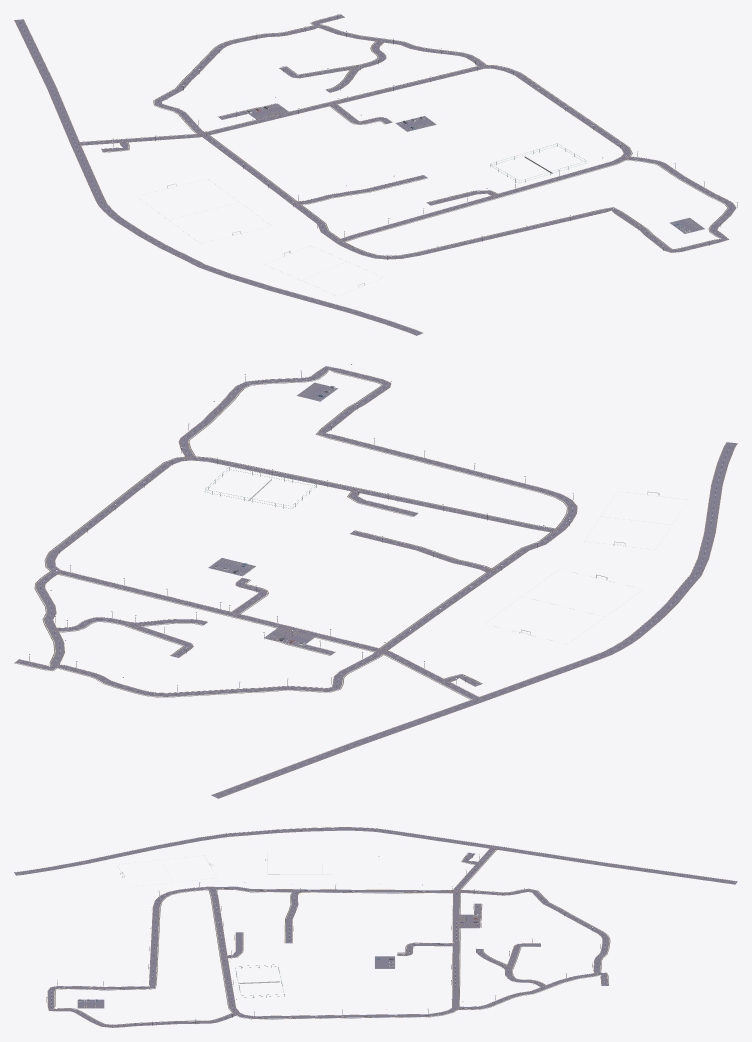
The model's file is campus-props-fantasy.glb.
3 renders of one model, top to bottom at view 1: azimuth 30°, elevation 25°; view 2: azimuth 150°, elevation 25°; view 3: azimuth 270°, elevation 25°, orthographic. The views are drawn at different scales.
Parts seen in each view (by area): view 1: campus_props; view 2: campus_props; view 3: campus_props.
Boxes of the visible parts, box(x1,y1,x2,y2) form: campus_props: box(14, 14, 737, 335); campus_props: box(14, 364, 737, 798); campus_props: box(14, 827, 737, 1027).
Bounding box in the file's own units: 431 × 4.9 × 657.
18 materials, 3 textured.
